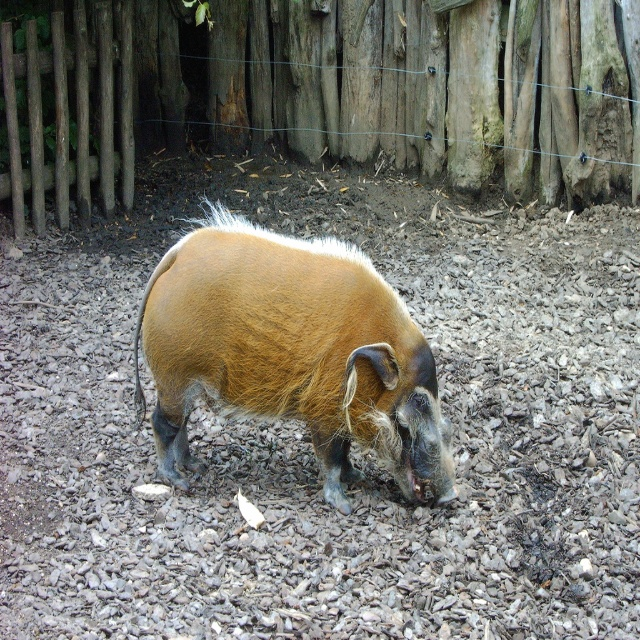Pig: (133, 195, 458, 512)
